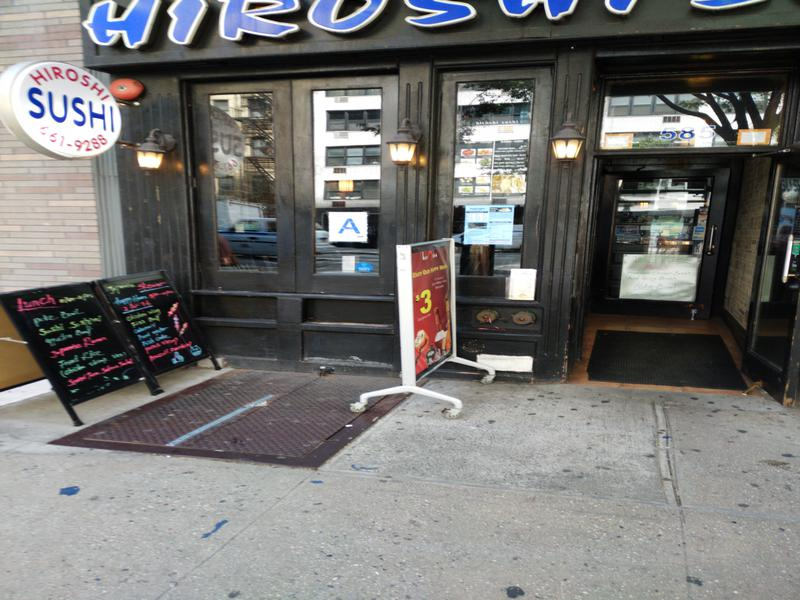door: (596, 151, 733, 328)
